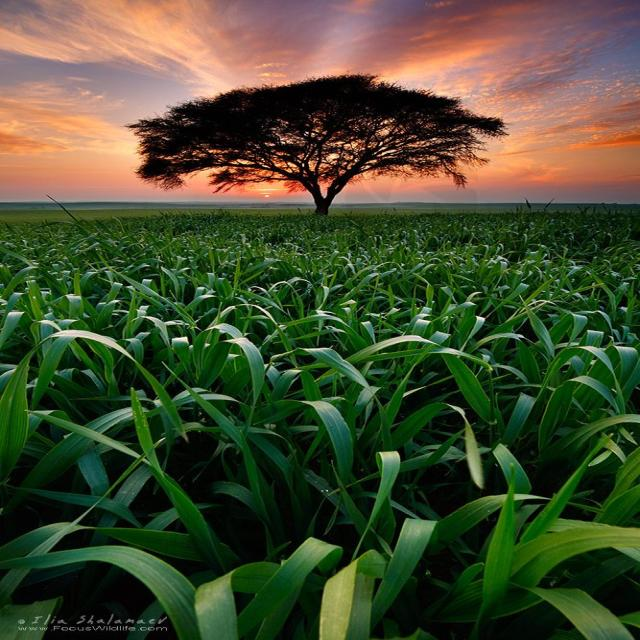Acacia: (142, 72, 498, 211)
